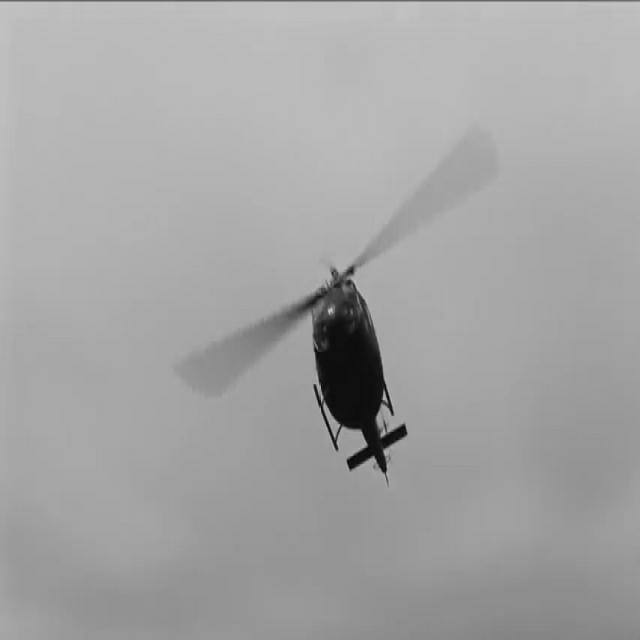helikopter: (266, 254, 432, 496)
